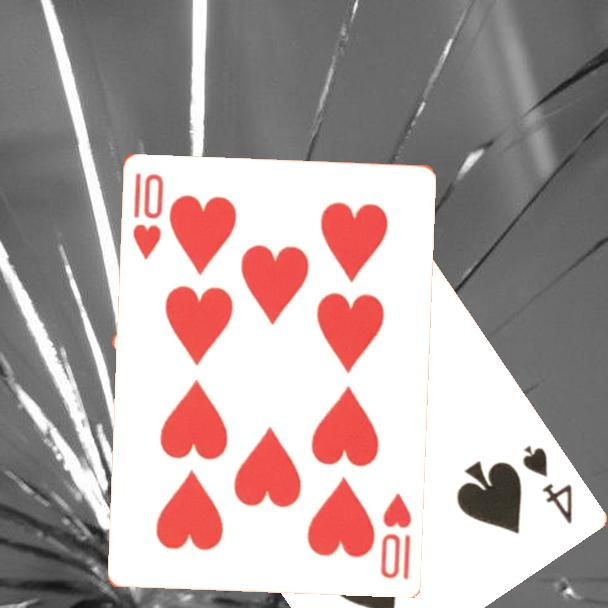h10: (128, 169, 166, 262), (377, 490, 414, 582)
s04: (518, 441, 575, 527)
